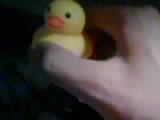duck: (36, 7, 92, 59)
